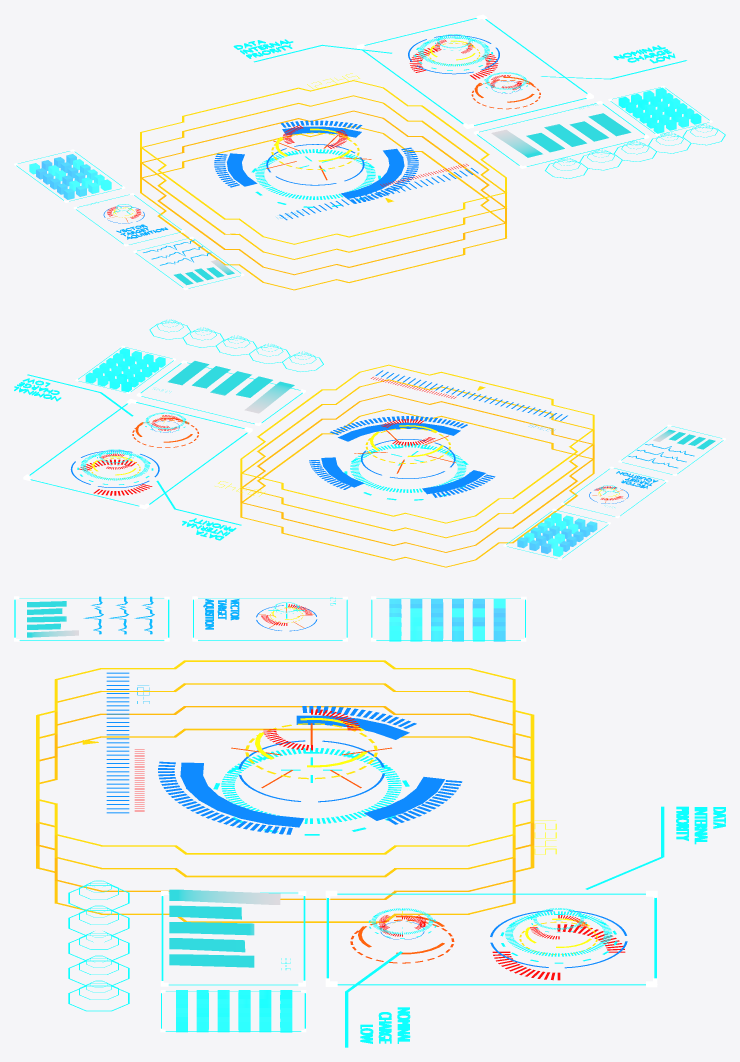
The model's file is cyberpunk-hud.glb.
3 renders of one model, top to bottom at view 1: azimuth 30°, elevation 25°; view 2: azimuth 150°, elevation 25°; view 3: azimuth 270°, elevation 25°, orthographic. The views are drawn at different scales.
Visible parts, largest first — view 1: Object_13, Object_9, Object_11, Object_86, Object_90, Object_88, Object_15, Object_108, Object_70, Object_77, Object_92, Object_26 (+1 smaller); view 2: Object_13, Object_9, Object_11, Object_90, Object_86, Object_88, Object_15, Object_108, Object_70, Object_77, Object_26, Object_92 (+1 smaller); view 3: Object_13, Object_9, Object_11, Object_90, Object_86, Object_88, Object_15, Object_108, Object_70, Object_77, Object_92, Object_26 (+1 smaller).
Part boxes in pixels (x1,y1,x2,y2): Object_13: [113, 40, 515, 290]; Object_9: [16, 18, 709, 288]; Object_11: [103, 35, 520, 265]; Object_86: [618, 87, 701, 133]; Object_90: [491, 113, 631, 157]; Object_88: [29, 154, 111, 199]; Object_15: [107, 39, 521, 218]; Object_108: [233, 39, 675, 63]; Object_70: [545, 124, 725, 178]; Object_77: [276, 168, 478, 220]; Object_92: [174, 259, 234, 285]; Object_26: [107, 76, 540, 222]; Object_13: [90, 364, 619, 567]; Object_9: [27, 347, 723, 558]; Object_11: [70, 416, 694, 503]; Object_90: [168, 361, 294, 413]; Object_86: [85, 348, 165, 392]; Object_88: [517, 512, 597, 556]; Object_15: [79, 377, 622, 500]; Object_108: [14, 378, 236, 540]; Object_70: [149, 319, 323, 371]; Object_77: [375, 370, 567, 431]; Object_26: [132, 417, 625, 502]; Object_92: [653, 429, 715, 449]; Object_13: [36, 607, 597, 954]; Object_9: [14, 597, 664, 1047]; Object_11: [83, 596, 627, 968]; Object_90: [169, 889, 280, 967]; Object_86: [176, 990, 292, 1032]; Object_88: [389, 599, 505, 641]; Object_15: [135, 604, 625, 980]; Object_108: [360, 806, 725, 1043]; Object_70: [68, 880, 129, 1011]; Object_77: [106, 672, 149, 813]; Object_92: [27, 601, 78, 637]; Object_26: [231, 608, 454, 963].
Size of the model in its own units: 43.93 by 4.41 by 29.53.
